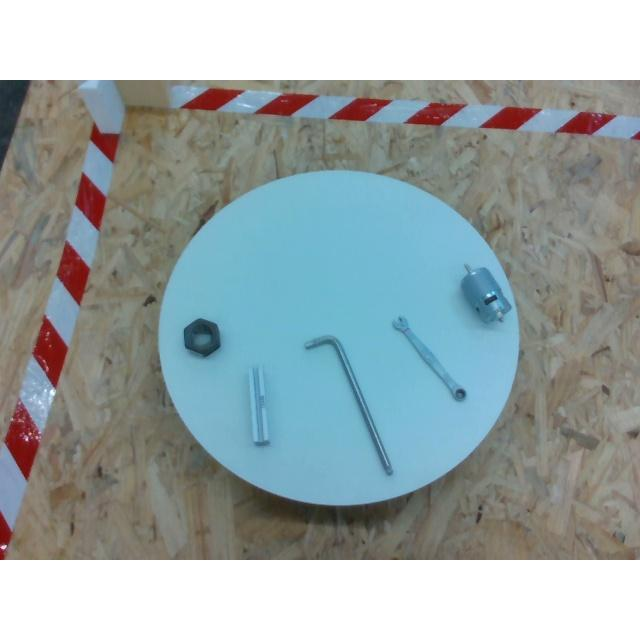AllenKey: (304, 336, 392, 472)
F20_20_G: (248, 366, 268, 442)
M30: (183, 318, 219, 354)
Motor2: (461, 264, 512, 322)
Wrench: (393, 316, 467, 398)
